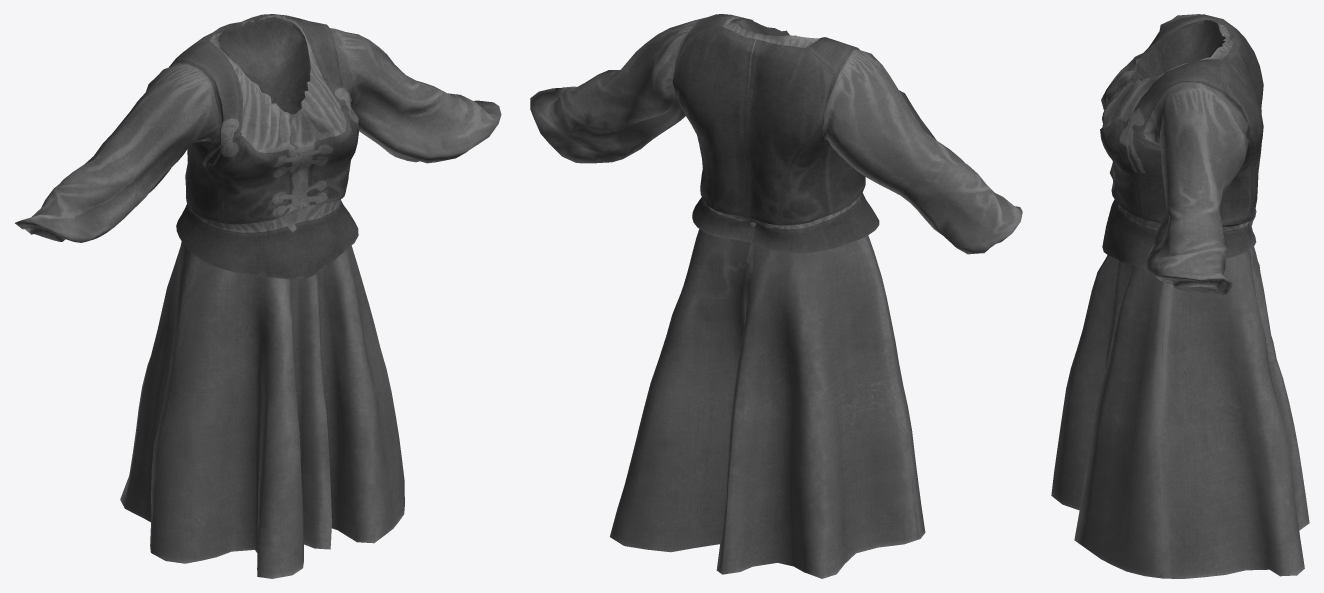
Rendered from sk_dwarf_dress_normal_h.fbx.
The picture shows the model from 3 angles, left to right: view 1: azimuth 30°, elevation 25°; view 2: azimuth 150°, elevation 25°; view 3: azimuth 270°, elevation 25°; orthographic projection. The views are drawn at different scales.
Parts seen in each view (by area): view 1: sk_dwarf_dress_normal_h.1, sk_dwarf_dress_normal_h.0; view 2: sk_dwarf_dress_normal_h.1, sk_dwarf_dress_normal_h.0; view 3: sk_dwarf_dress_normal_h.1, sk_dwarf_dress_normal_h.0.
Part boxes in pixels (box(x1,y1,x2,y2)): sk_dwarf_dress_normal_h.1: box(120, 241, 404, 578); sk_dwarf_dress_normal_h.0: box(15, 14, 501, 279); sk_dwarf_dress_normal_h.1: box(610, 222, 925, 578); sk_dwarf_dress_normal_h.0: box(530, 14, 1022, 254); sk_dwarf_dress_normal_h.1: box(1051, 247, 1309, 578); sk_dwarf_dress_normal_h.0: box(1100, 14, 1263, 295).
Bounding box in the file's own units: 1.26 × 0.5951 × 1.26.
2 materials, 2 textured.
